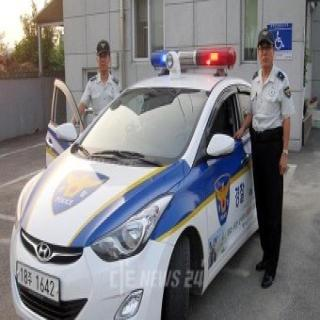Police_car: (9, 48, 261, 320)
